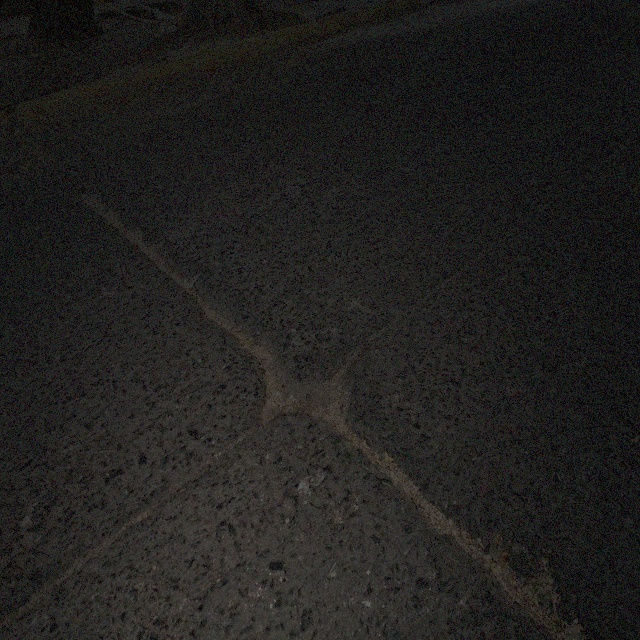pothole: (254, 339, 348, 438), (511, 562, 568, 607)
